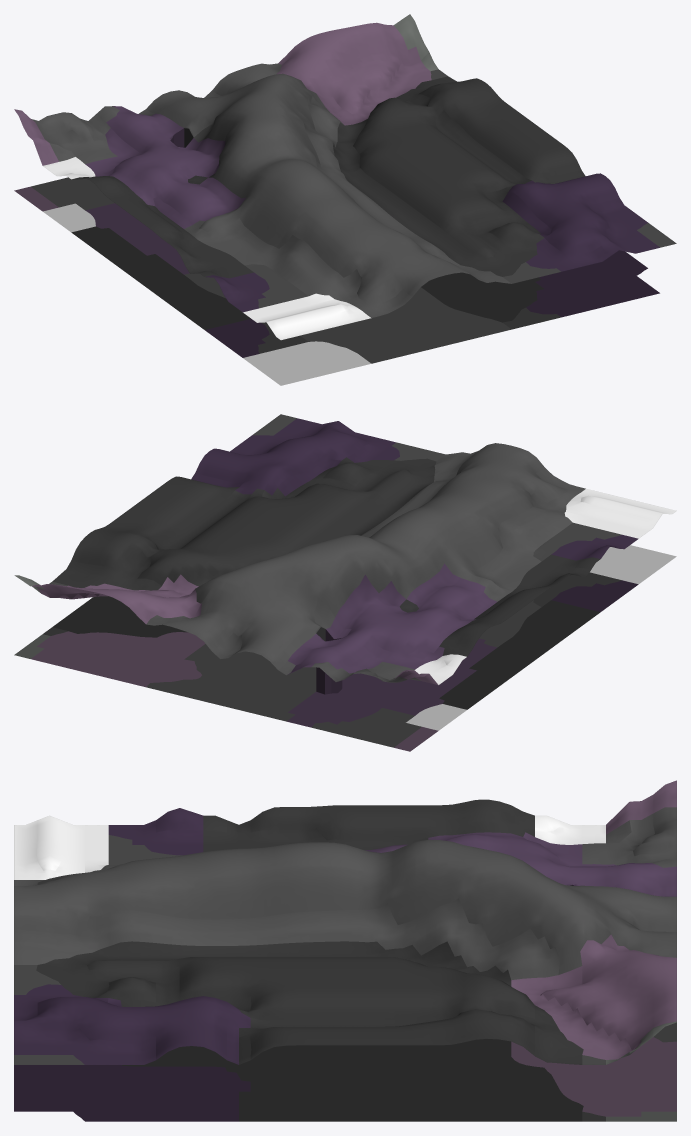
File: delbld-hull-292.glb
3 renders of one model, top to bottom at view 1: azimuth 30°, elevation 25°; view 2: azimuth 150°, elevation 25°; view 3: azimuth 270°, elevation 25°, orthographic. The views are drawn at different scales.
Parts seen in each view (by area): view 1: delbld-hull-292; view 2: delbld-hull-292; view 3: delbld-hull-292.
Part boxes in pixels (x1,y1,x2,y2): delbld-hull-292: (14, 14, 676, 385); delbld-hull-292: (14, 414, 676, 751); delbld-hull-292: (14, 780, 676, 1121).
Bounding box in the file's own units: 2 × 0.5 × 2.33.
Materials: 13 (13 with a texture image).
